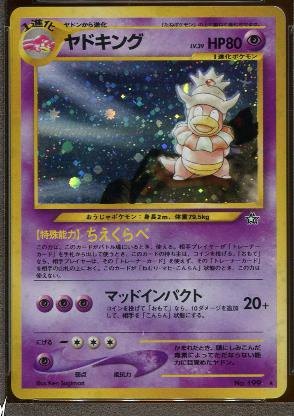Card: (6, 4, 288, 402)
